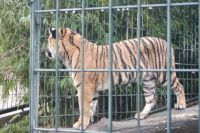Tigre: (43, 20, 190, 115)
